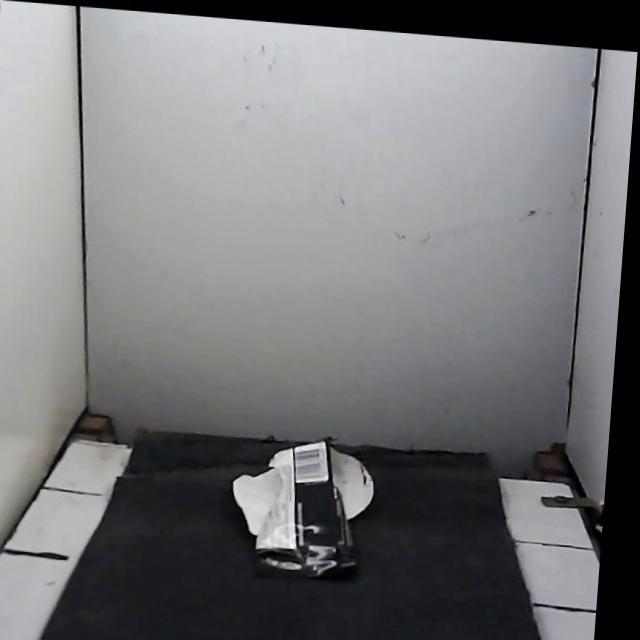plastico: (233, 441, 372, 578)
